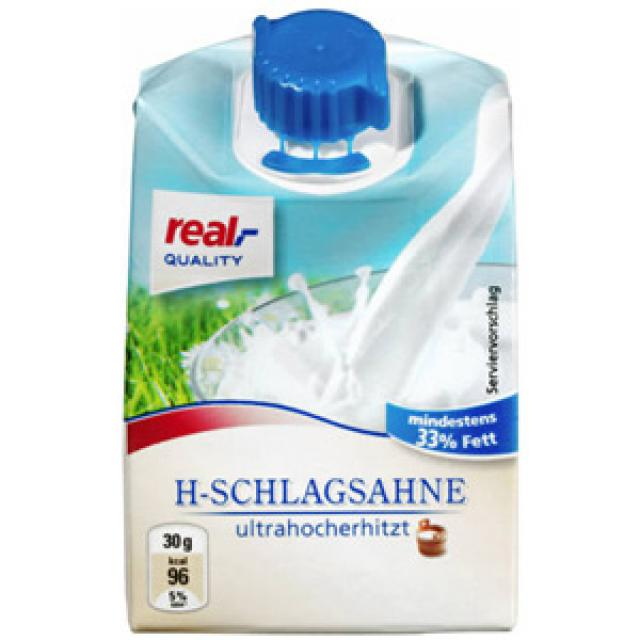Cream: (126, 11, 521, 631)
